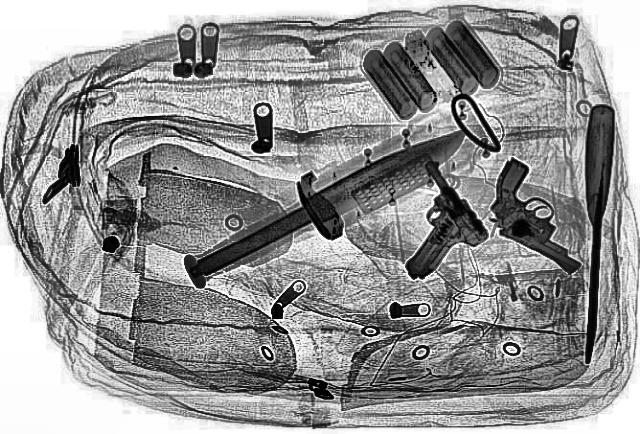Gun: (444, 157, 638, 273), (346, 158, 504, 280)
Knife: (184, 120, 480, 276), (583, 105, 611, 363)
